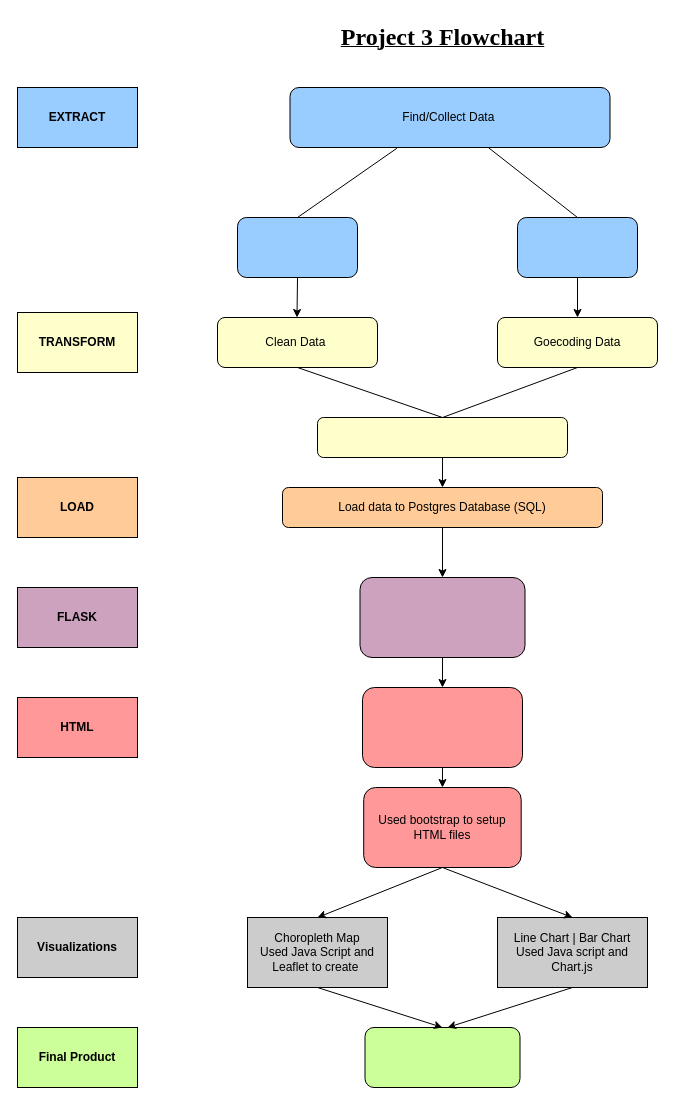
This 675x1105 diagram has some shape labels left out. Here are the shapes that lost their labels. From the top down, the box of each, then its label:
(236, 216, 358, 278): Fulton County Public Records Data
(516, 216, 638, 278): Census Data
(316, 416, 568, 458): Spatial Join to assign block ID to each address
(359, 576, 525, 658): Created Flask App to create individual API routes for each visualization
(362, 686, 522, 768): Rendered index.html for all html templates (i.e., Data Page, About Page)
(364, 1026, 520, 1088): Deployed App
